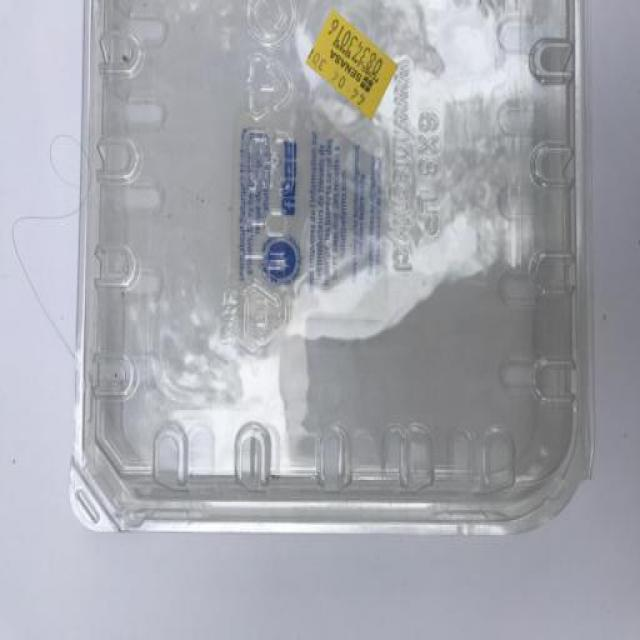Trash: (75, 0, 601, 545)
